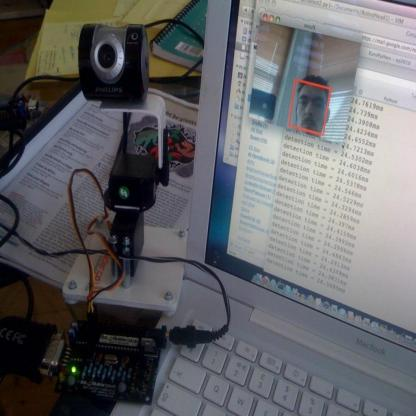board: (110, 0, 415, 415)
